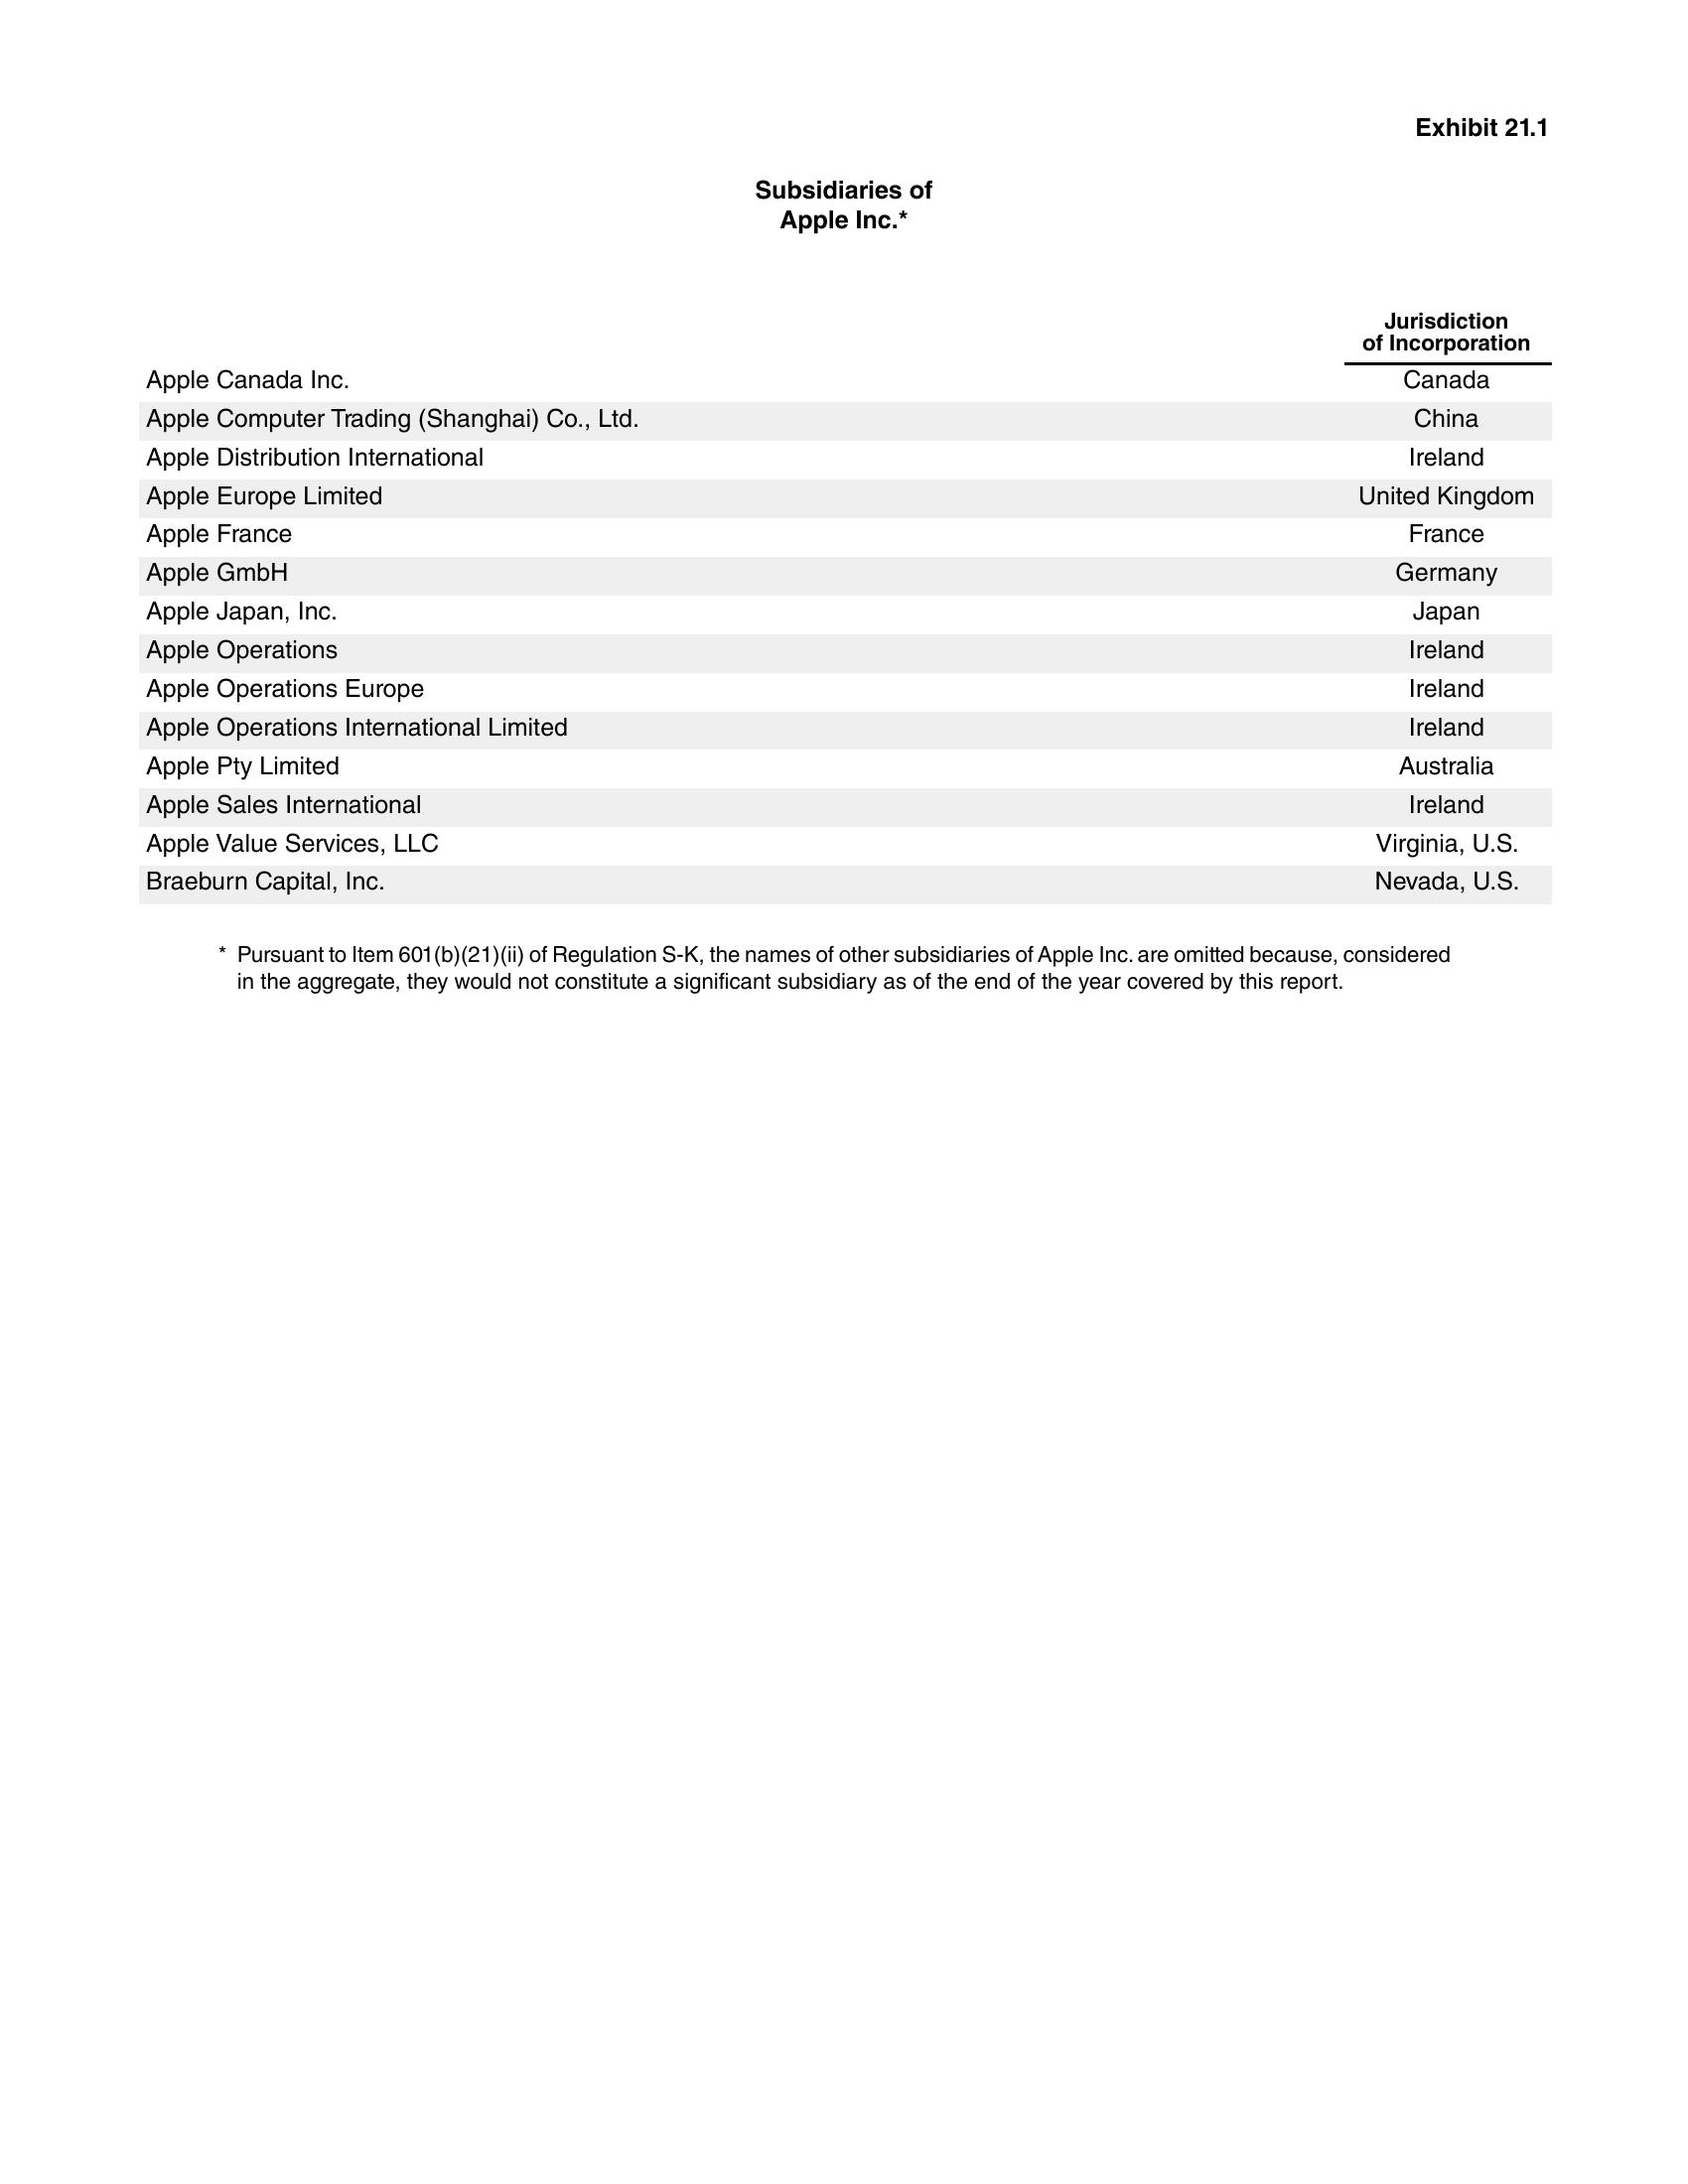table: (129, 312, 1559, 913)
